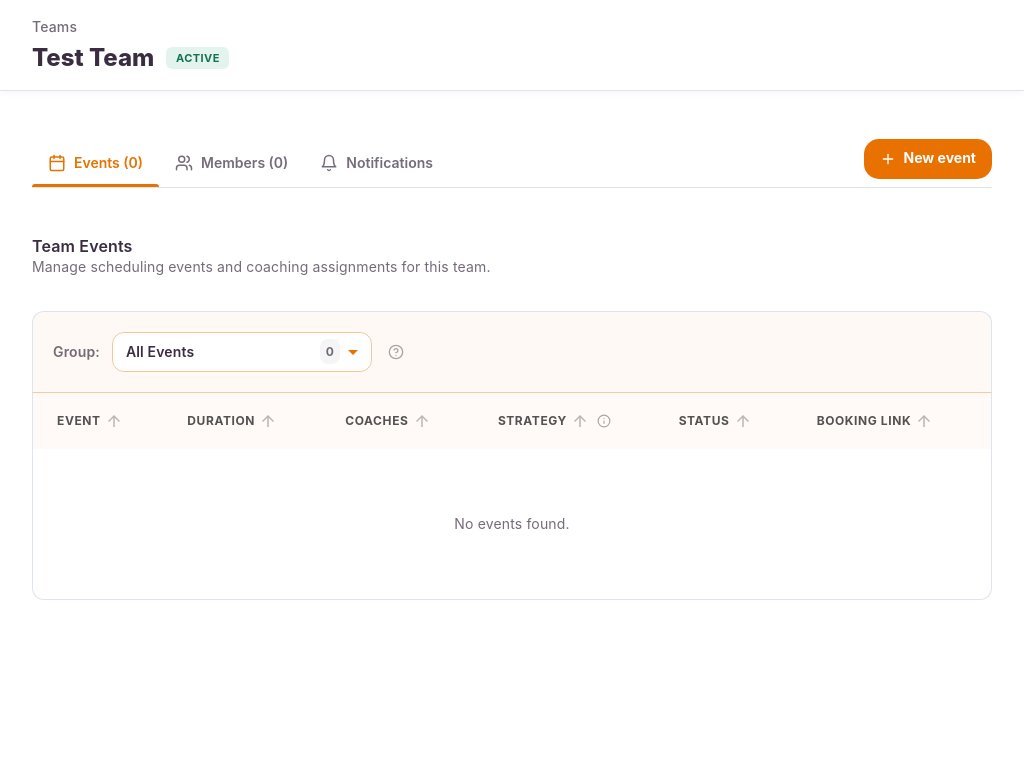
Permission Gating: Team Notifications › should disable checkboxes for COACH
# Switch to Notifications tab
Click the tab "Notifications": [377, 163] box [304,139,449,187]
(page scrolled)
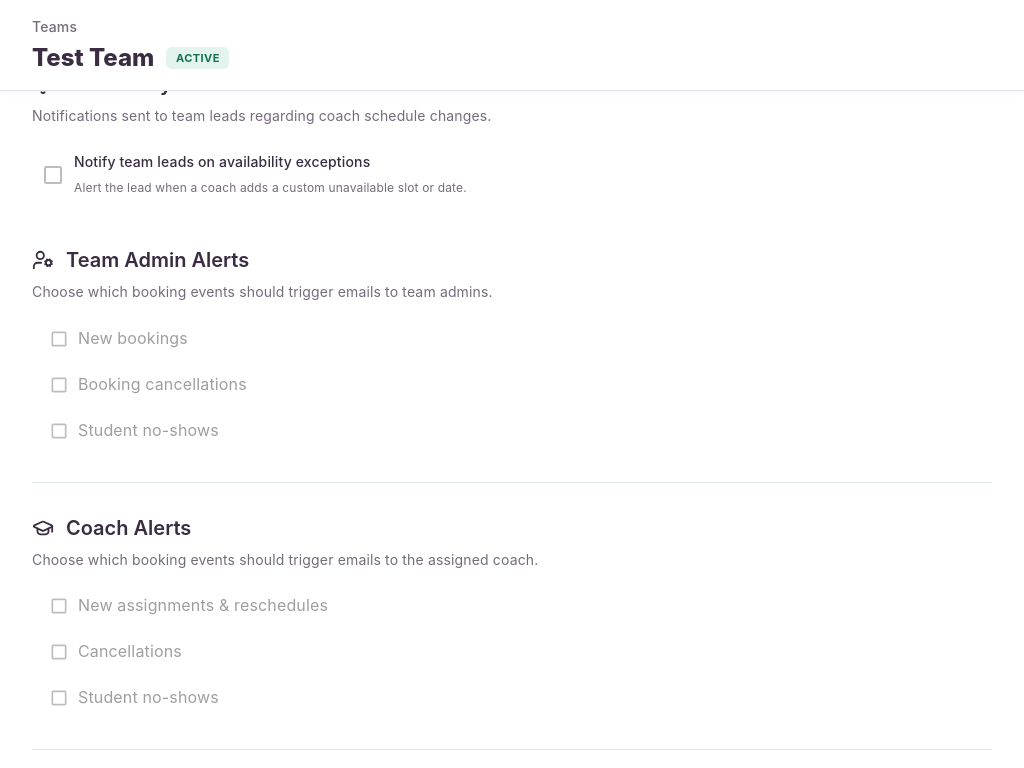
Expected: the checkbox labelled "Booking cancellations" is disabled, [49,374,247,395]
